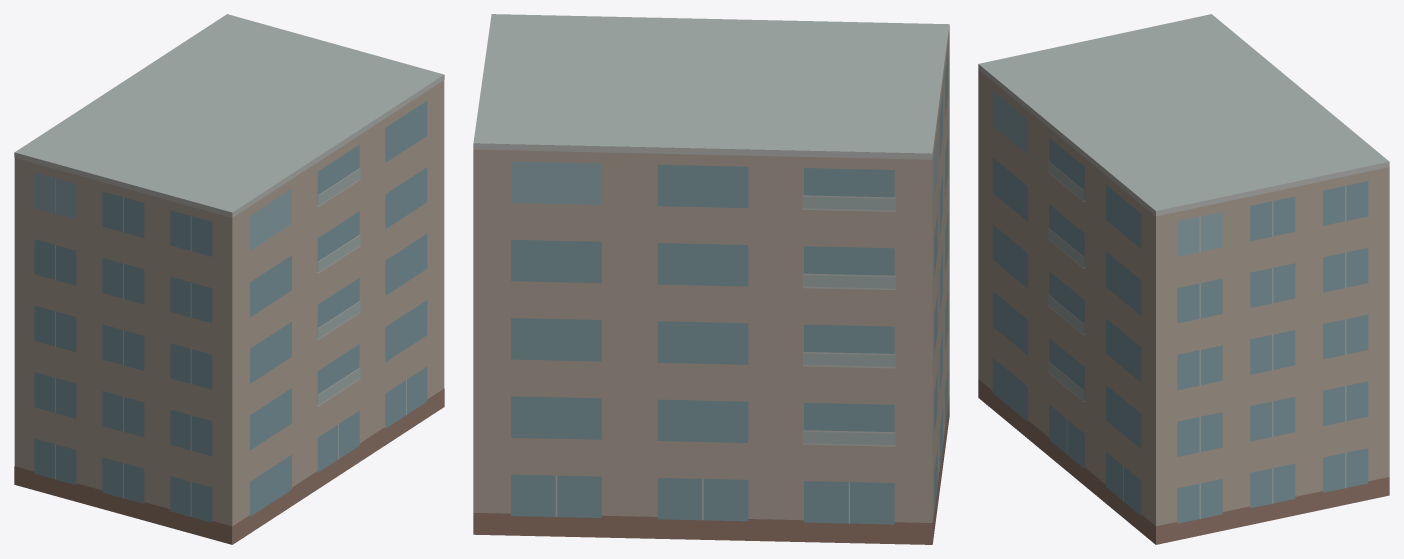
The model's file is survey-upis-32723528.glb.
3 views of the same model, side by side, from view 1: azimuth 30°, elevation 25°; view 2: azimuth 150°, elevation 25°; view 3: azimuth 270°, elevation 25° (orthographic). The views are drawn at different scales.
Parts seen in each view (by area): view 1: survey-upis-32723528.tmp; view 2: survey-upis-32723528.tmp; view 3: survey-upis-32723528.tmp.
Part boxes in pixels (left/top/right/bottom): survey-upis-32723528.tmp: left=14, top=14, right=444, bottom=544; survey-upis-32723528.tmp: left=473, top=14, right=949, bottom=544; survey-upis-32723528.tmp: left=978, top=14, right=1389, bottom=544.
Size of the model in its own units: 19.33 by 15.25 by 17.04.
